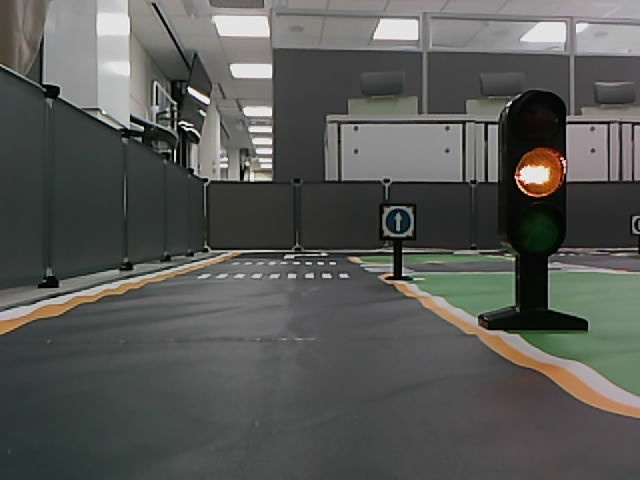crosswalk: (195, 269, 352, 283), (229, 258, 338, 266)
go: (385, 209, 412, 235)
